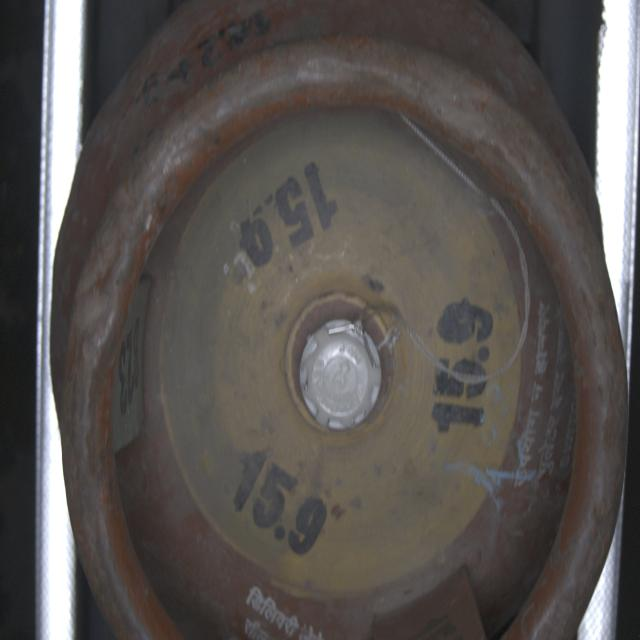Cap: (298, 320, 384, 436)
